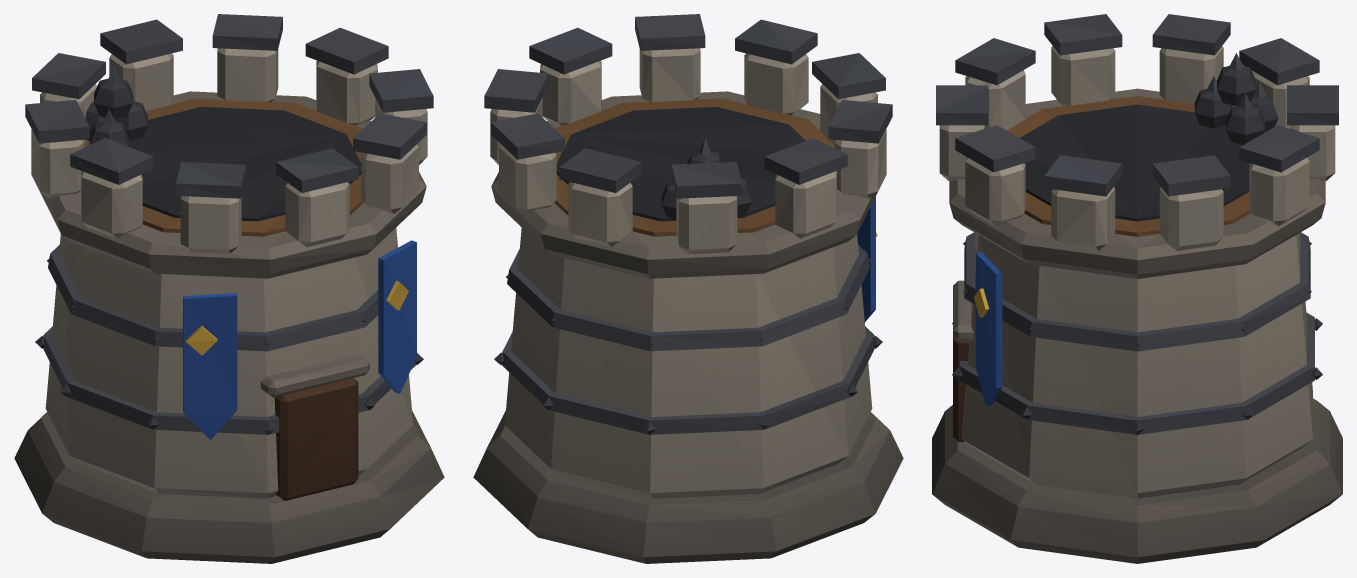
Rendered from iron_mortar.glb.
3 views of the same model, side by side, from view 1: azimuth 30°, elevation 25°; view 2: azimuth 150°, elevation 25°; view 3: azimuth 270°, elevation 25° (orthographic).
Parts seen in each view (by area): view 1: iron_mortar; view 2: iron_mortar; view 3: iron_mortar.
Boxes of the visible parts, left/top/right/bottom form: iron_mortar: left=14, top=14, right=444, bottom=563; iron_mortar: left=473, top=14, right=903, bottom=563; iron_mortar: left=932, top=14, right=1342, bottom=563.
Bounding box in the file's own units: 0.96 × 0.965 × 0.913.
